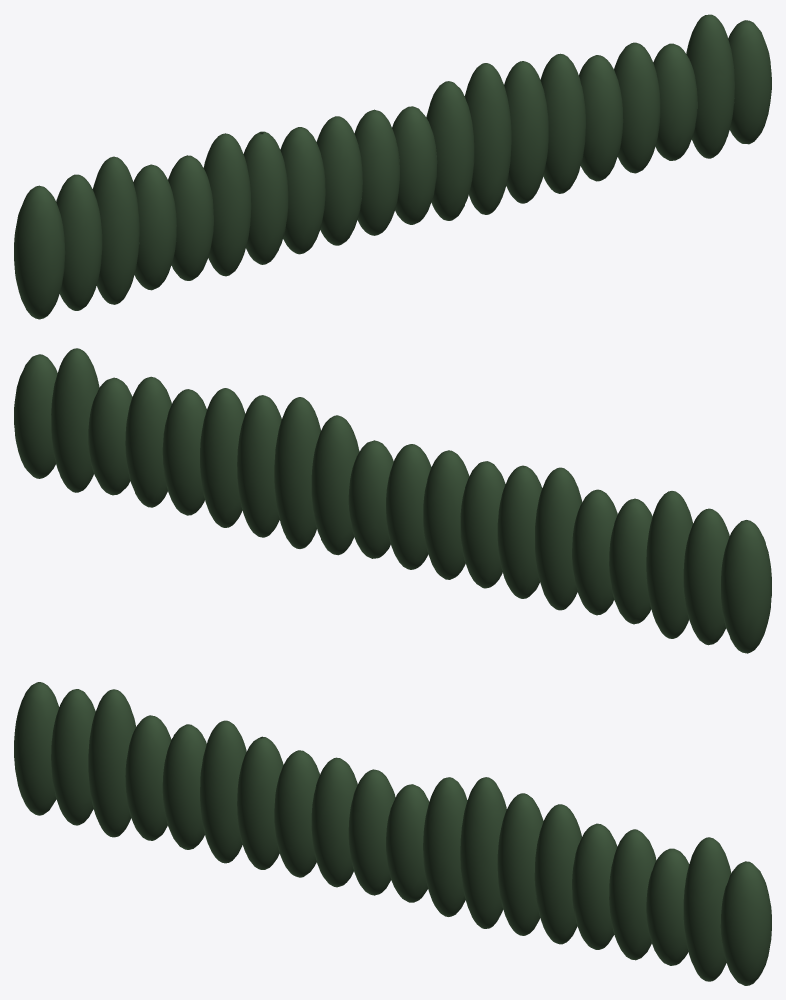
The model's file is f45-treeline-strip.lod1.glb.
The picture shows the model from 3 angles, top to bottom: view 1: azimuth 30°, elevation 25°; view 2: azimuth 150°, elevation 25°; view 3: azimuth 330°, elevation 25°; orthographic projection.
Parts seen in each view (by area): view 1: part0; view 2: part0; view 3: part0.
Part boxes in pixels (x1,y1,x2,y2): part0: (14, 14, 771, 319); part0: (14, 348, 771, 653); part0: (14, 682, 771, 985).
Bounding box in the file's own units: 100979 × 19329 × 5991.
